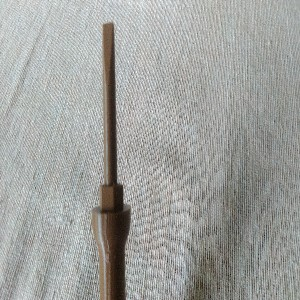obeng: (90, 21, 132, 300)
